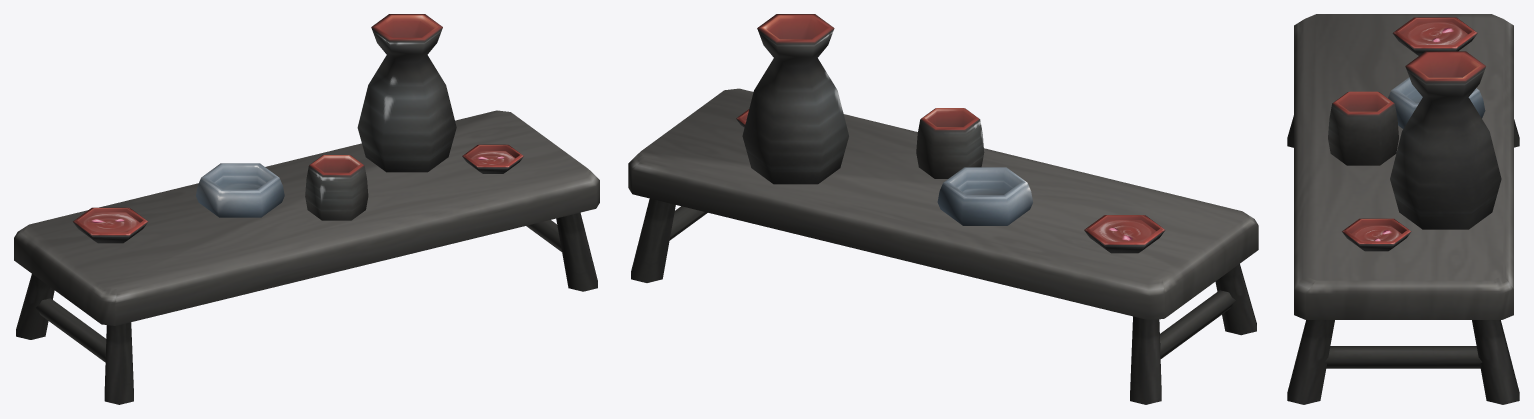
3 renders of one model, left to right at view 1: azimuth 30°, elevation 25°; view 2: azimuth 150°, elevation 25°; view 3: azimuth 270°, elevation 25°, orthographic. The views are drawn at different scales.
Parts seen in each view (by area): view 1: wq_wj001_01; view 2: wq_wj001_01; view 3: wq_wj001_01.
Part boxes in pixels (<box>): wq_wj001_01: <box>14,14,599,404</box>; wq_wj001_01: <box>628,14,1258,404</box>; wq_wj001_01: <box>1287,14,1519,404</box>.
Bounding box in the file's own units: 209 × 95.97 × 75.08.
1 material, 1 textured.
